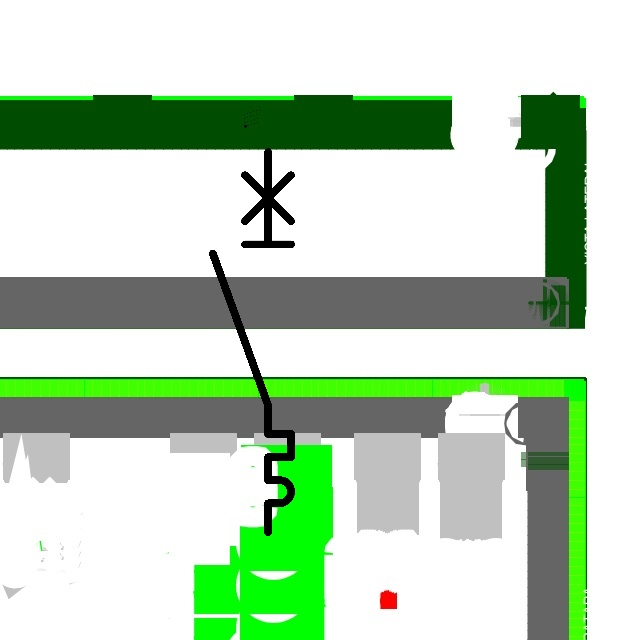interruptor_termomagnetico: (203, 142, 301, 542)
